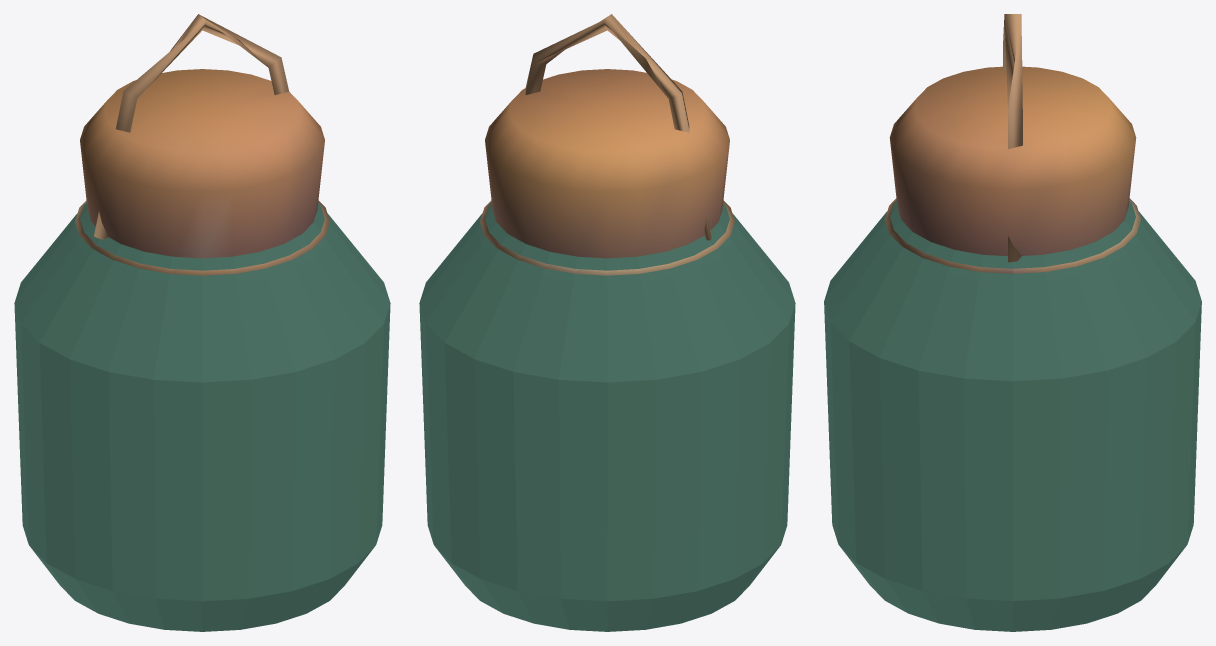
File: kavanoz_ates.glb
3 renders of one model, left to right at view 1: azimuth 30°, elevation 25°; view 2: azimuth 150°, elevation 25°; view 3: azimuth 270°, elevation 25°, orthographic.
Visible parts, largest first — view 1: kavanoz_ates_LOD0; view 2: kavanoz_ates_LOD0; view 3: kavanoz_ates_LOD0.
Part boxes in pixels (left/top/right/bottom): kavanoz_ates_LOD0: left=14, top=14, right=390, bottom=631; kavanoz_ates_LOD0: left=419, top=14, right=795, bottom=631; kavanoz_ates_LOD0: left=824, top=14, right=1201, bottom=631.
Size of what is drawn, in the model's own units: 0.23 by 0.3731 by 0.23.
